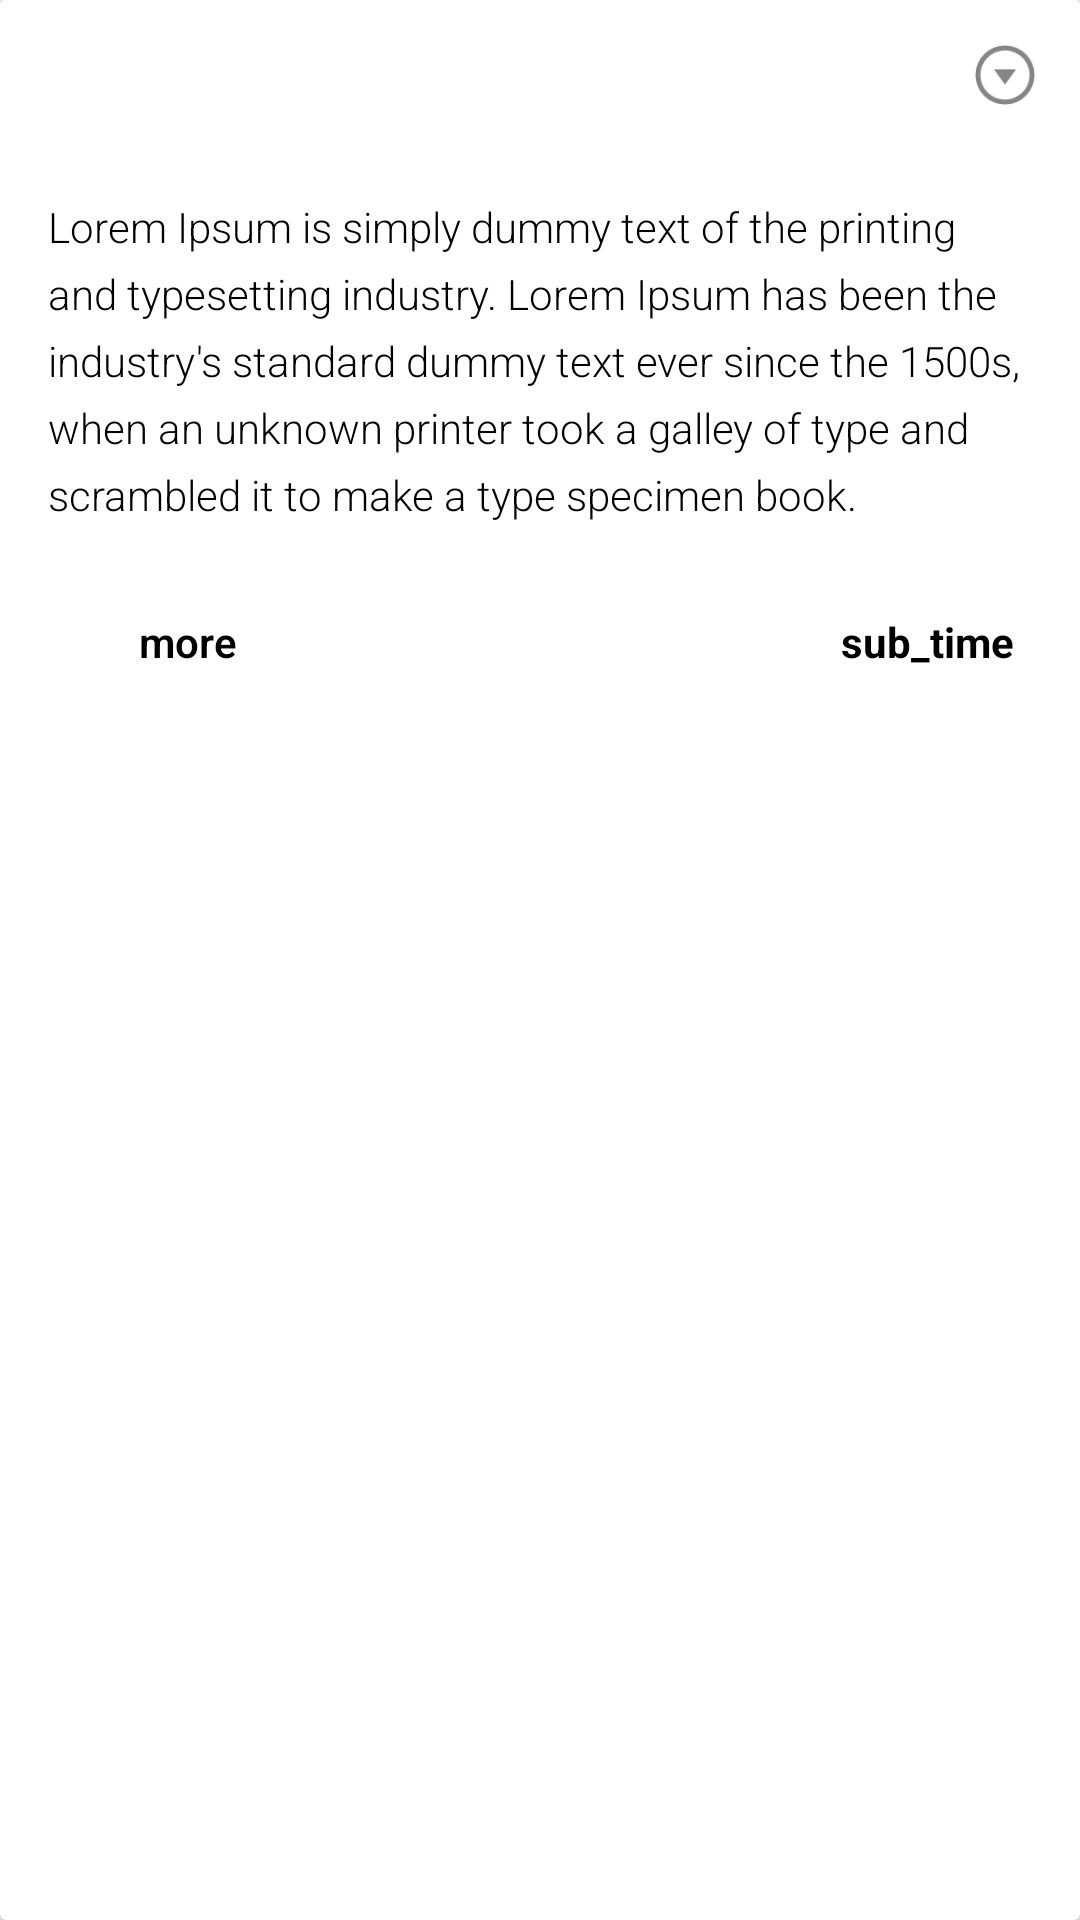

Screen size 1080w x 1920h. Icon name, then its center in pixels as [x,y]:
more: [1005,75]
